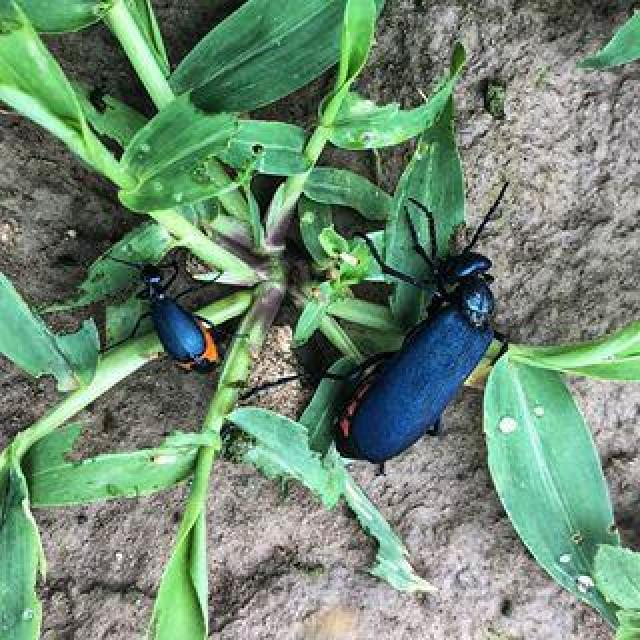BlisterBeetle-Adult-: (323, 184, 522, 472)
